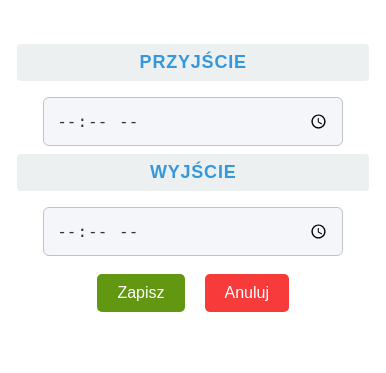
Test case: TimesInput › display error message when check-in but no check-out value was provided and save button was clicked
Type "08:20" into the time field with test id "time-selector-check-in-input" at [193, 122], box top-left (43, 97), bottom-right (343, 146)
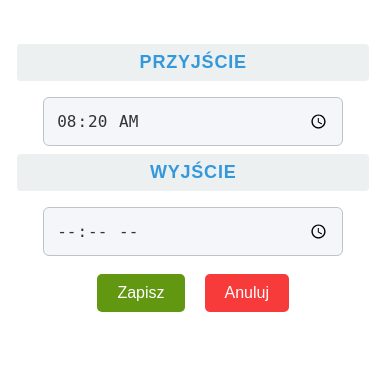
Click the button with test id "times-input-save-button" at [141, 293], box top-left (97, 274), bottom-right (184, 312)
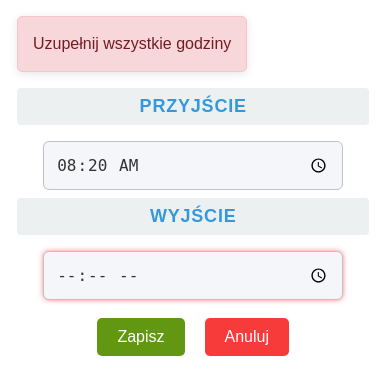
Expected: the element with test id "times-input-error" is shown, top-left (17, 16), bottom-right (247, 72)
Expected: the element with test id "times-input-error" reads "Uzupełnij wszystkie godziny", top-left (33, 35), bottom-right (231, 52)
